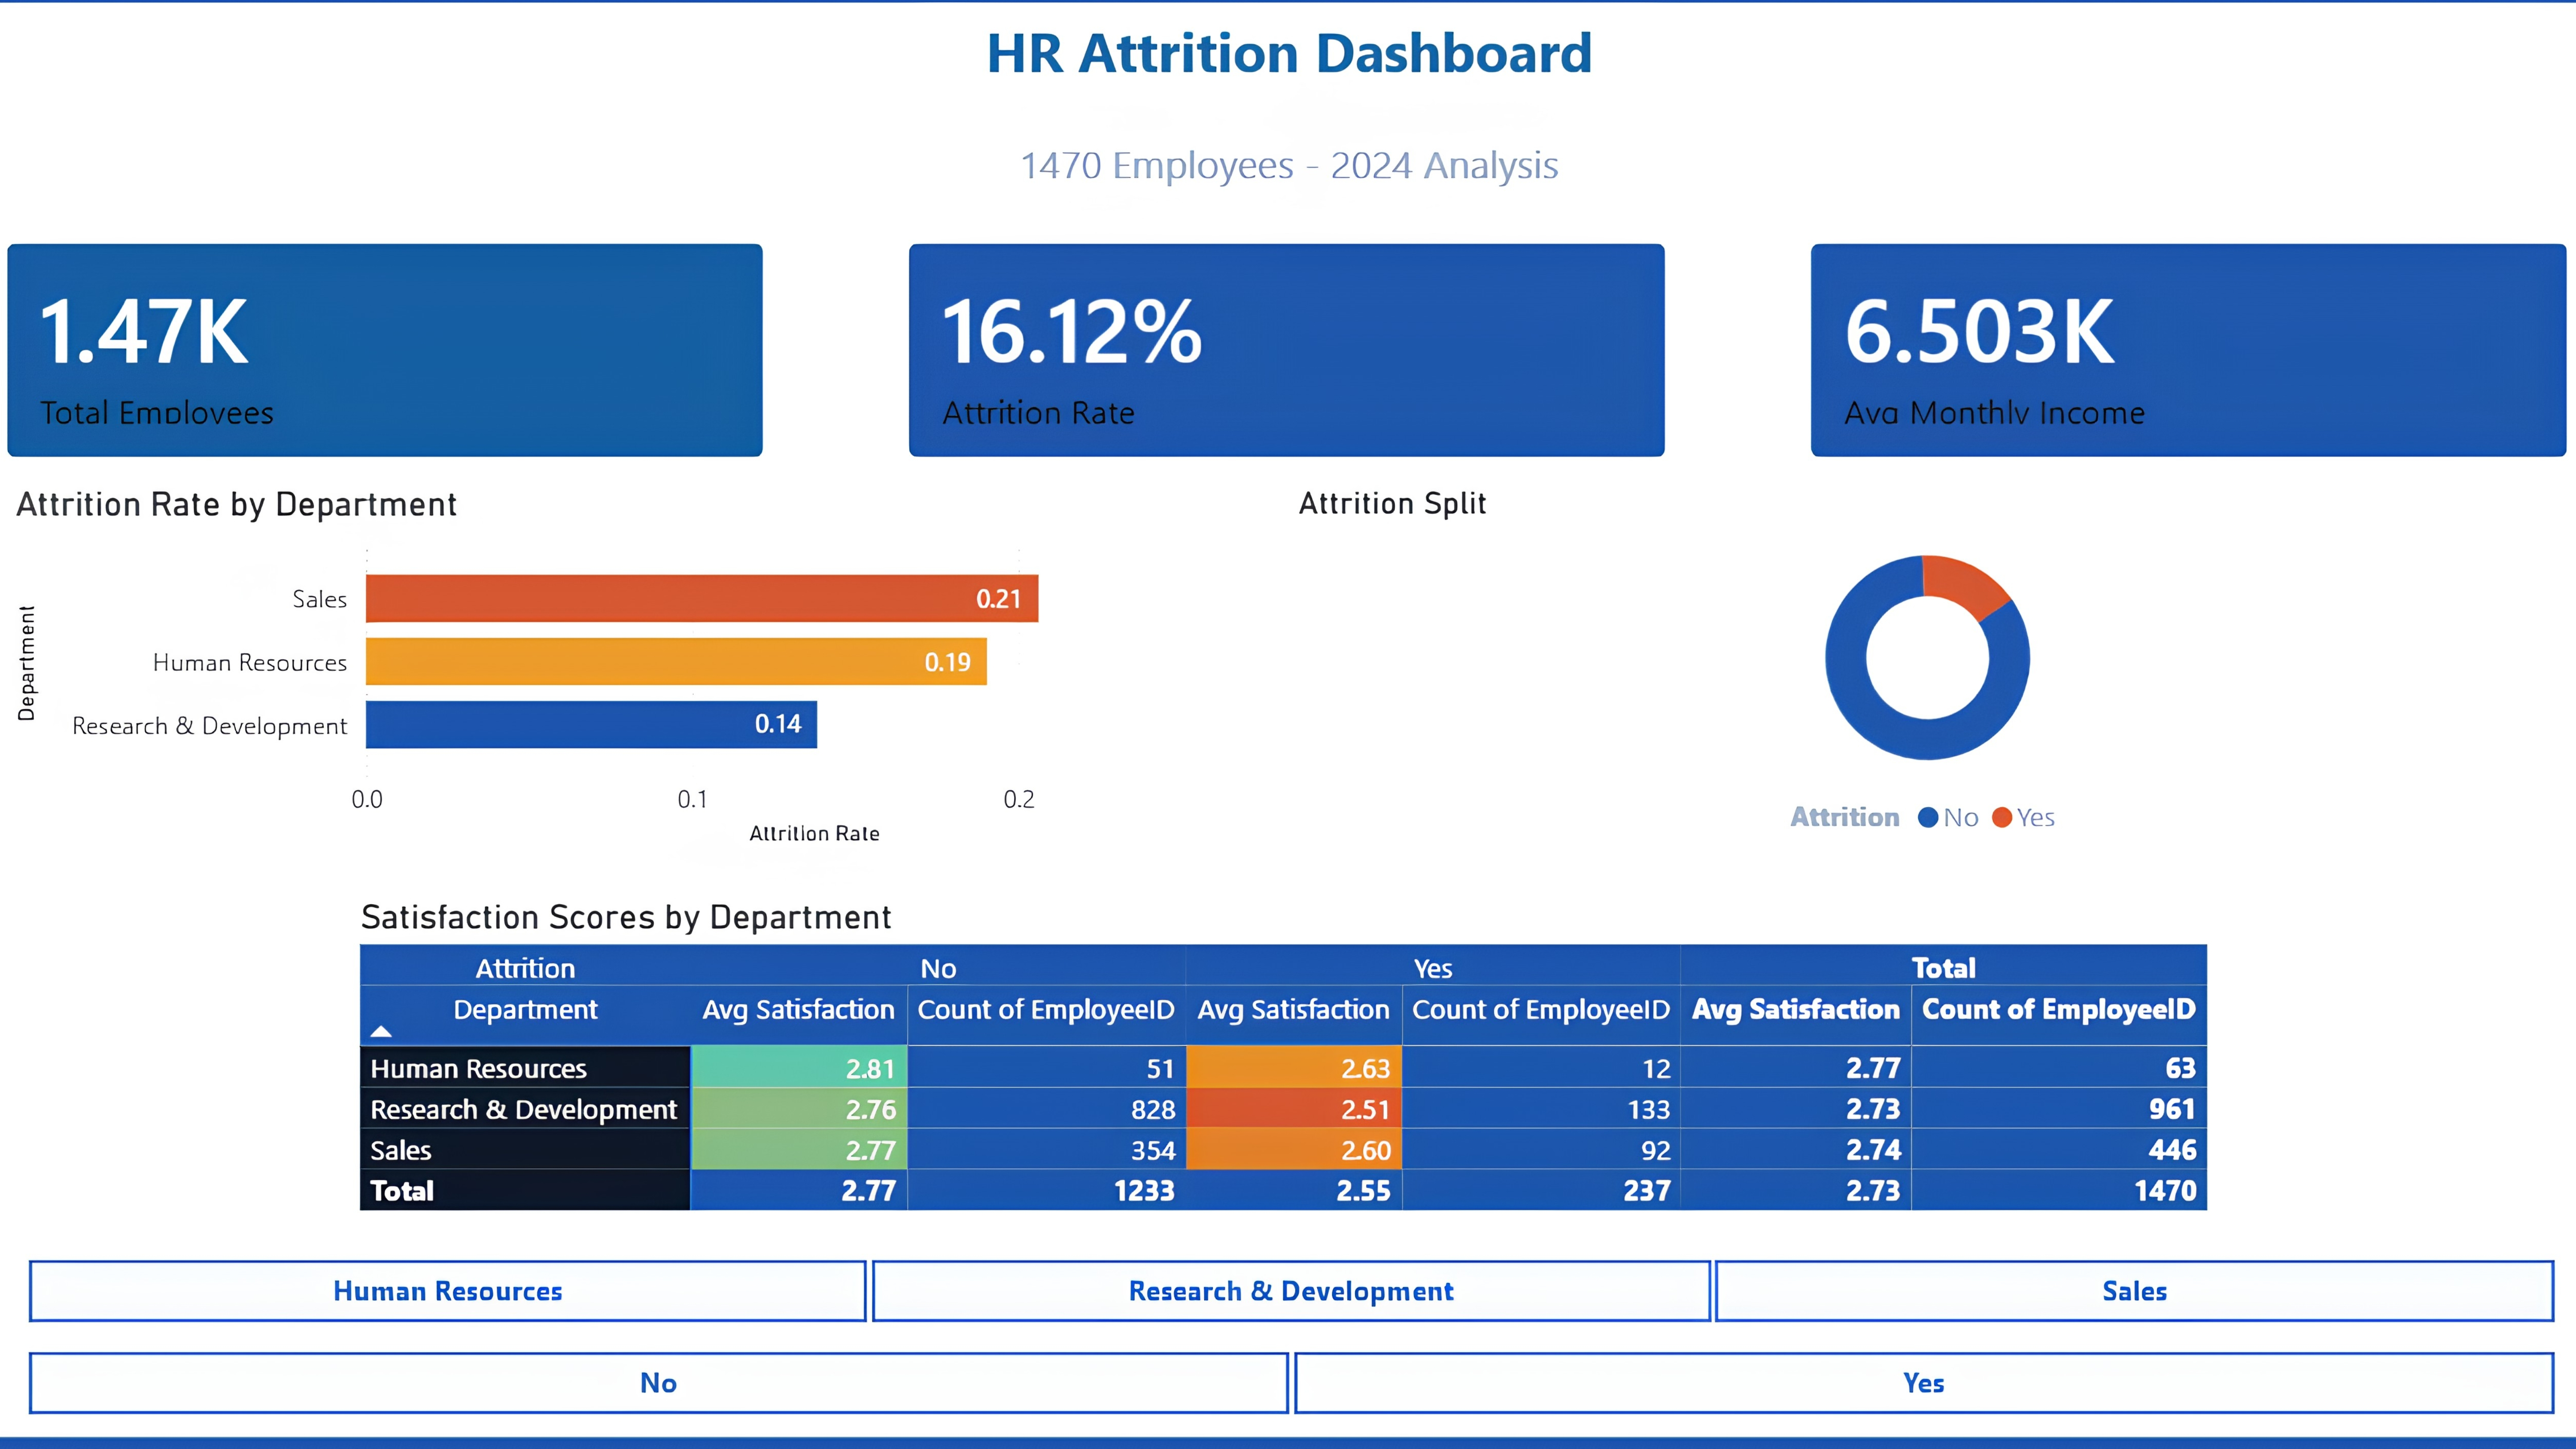

What the dashboard file says about the page in this screenshot:
{"tool":"powerbi","page":{"name":"Overview","canvas":[1280,720],"ordinal":1},"visuals":[{"type":"shape","box":[0,0,1280,11.2],"z":0},{"type":"textbox","box":[460.2,11,359.5,46.5],"z":1000},{"type":"textbox","box":[490.2,72.1,299.6,42.8],"z":2000},{"type":"cardVisual","fields":{"Data":["fact_attrition.Total Employees"]},"box":[14.7,128.4,369.5,104.5],"z":3000},{"type":"cardVisual","fields":{"Data":["fact_attrition.Attrition Rate"]},"box":[453.8,128.4,369.5,104.5],"z":4000},{"type":"cardVisual","fields":{"Data":["fact_attrition.Avg Monthly Income"]},"box":[892.9,128.4,369.5,104.5],"z":5000},{"type":"clusteredBarChart","fields":{"Category":["dim_job.Department"],"Y":["fact_attrition.Attrition Rate"]},"box":[14.9,245.1,625.7,181.6],"z":6000},{"type":"donutChart","title":"Attrition Split","fields":{"Category":["fact_attrition.Attrition"],"Y":["CountNonNull(dim_employee.EmployeeID)"]},"box":[639.4,245.1,623.2,181.6],"z":7000},{"type":"pivotTable","title":"Satisfaction Scores by Department","fields":{"Rows":["dim_job.Department"],"Columns":["fact_attrition.Attrition"],"Values":["fact_attrition.Avg Satisfaction","CountNonNull(fact_attrition.EmployeeID)"]},"box":[182.9,445.3,910.6,170.4],"z":8000},{"type":"slicer","fields":{"Values":["dim_job.Department"]},"box":[0,615.8,1280,44.8],"z":9000},{"type":"slicer","fields":{"Values":["fact_attrition.Attrition"]},"box":[0,660.5,1280,44.8],"z":10000},{"type":"shape","box":[0,709.1,1280,11.2],"z":11000}]}

Visuals, with their boxes in screenshot pixels (x1, y1, x2, y2), scaled from the page's 1280x720 canvas onto the 2576x1449 screenshot:
shape: <bbox>0, 0, 2576, 22</bbox>
textbox: <bbox>926, 22, 1649, 116</bbox>
textbox: <bbox>987, 145, 1589, 231</bbox>
cardVisual - fact_attrition.Total Employees: <bbox>30, 258, 773, 469</bbox>
cardVisual - fact_attrition.Attrition Rate: <bbox>913, 258, 1657, 469</bbox>
cardVisual - fact_attrition.Avg Monthly Income: <bbox>1797, 258, 2541, 469</bbox>
clusteredBarChart - dim_job.Department x fact_attrition.Attrition Rate: <bbox>30, 493, 1289, 859</bbox>
"Attrition Split" donutChart: <bbox>1287, 493, 2541, 859</bbox>
"Satisfaction Scores by Department" pivotTable: <bbox>368, 896, 2201, 1239</bbox>
slicer - dim_job.Department: <bbox>0, 1239, 2576, 1330</bbox>
slicer - fact_attrition.Attrition: <bbox>0, 1329, 2576, 1419</bbox>
shape: <bbox>0, 1427, 2576, 1449</bbox>
